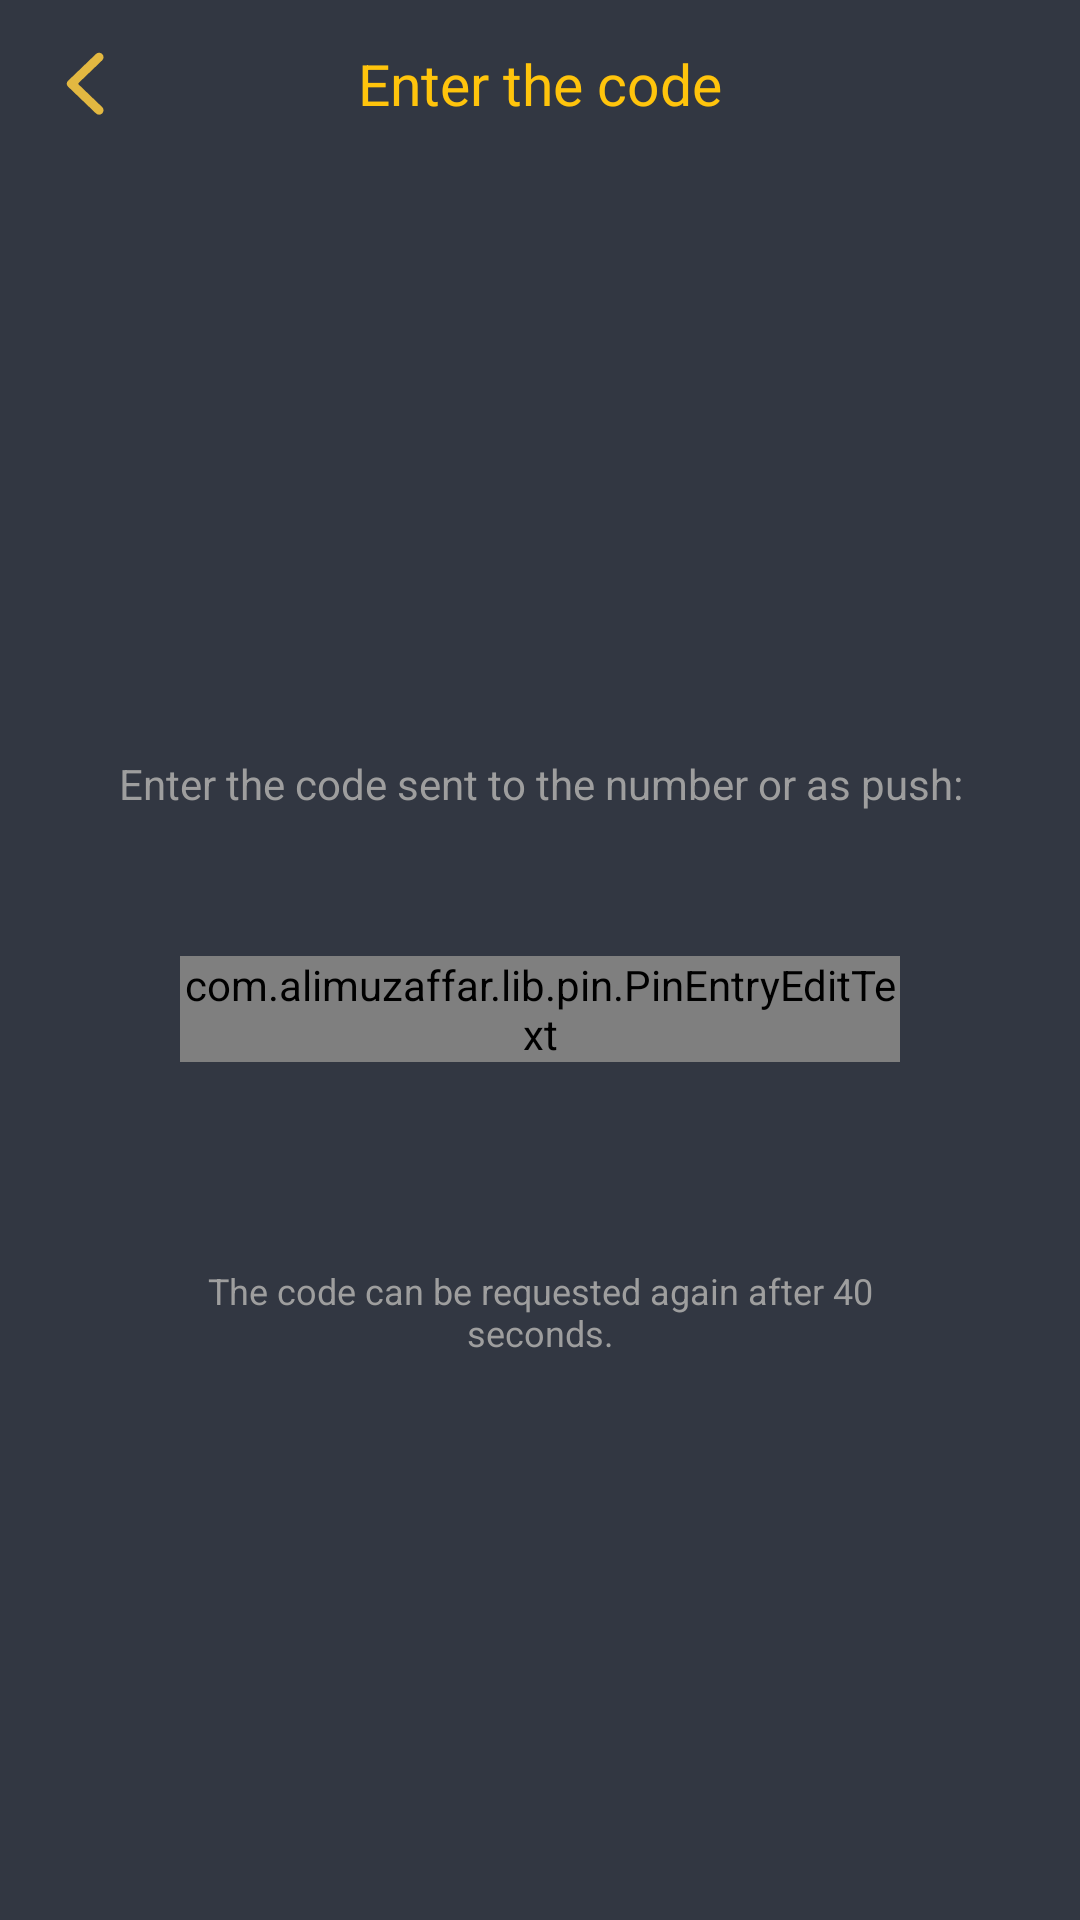

Icon bounding boxes for this 1080px×1920px phone screenshot, format box(x1, y1, x2, y2):
back: box(66, 52, 104, 115)
